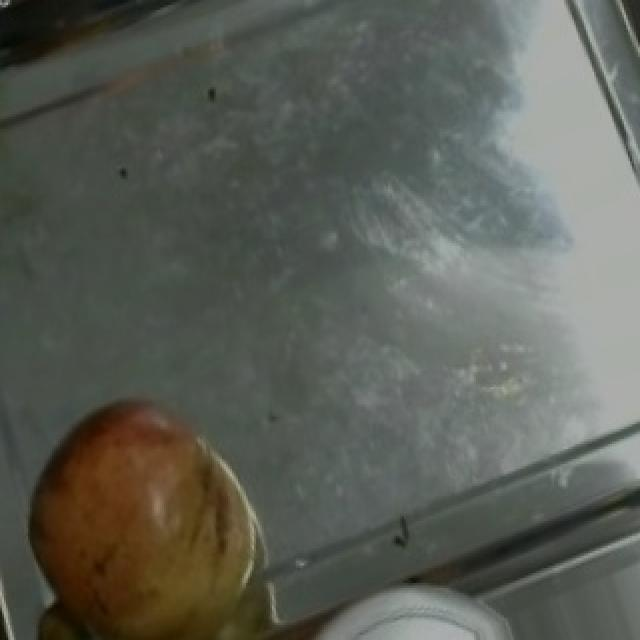fruit: (0, 362, 284, 635)
